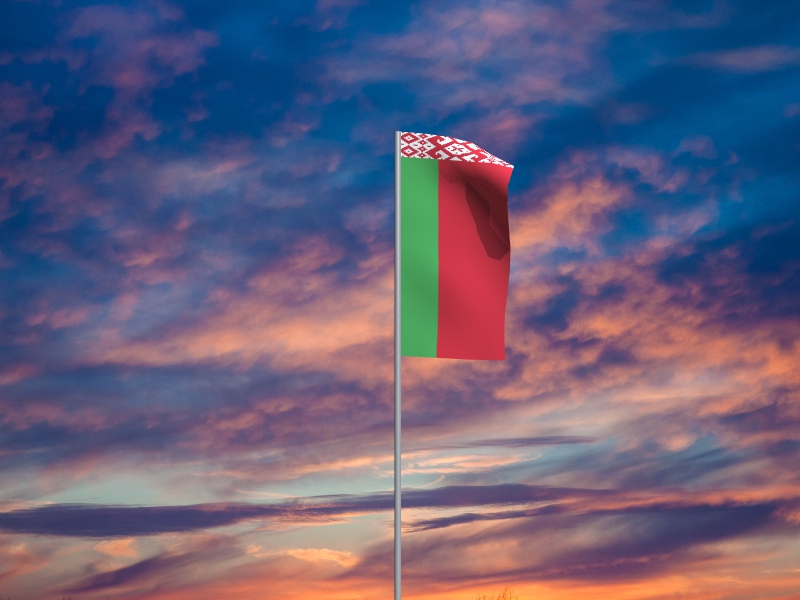by: (402, 133, 516, 362)
